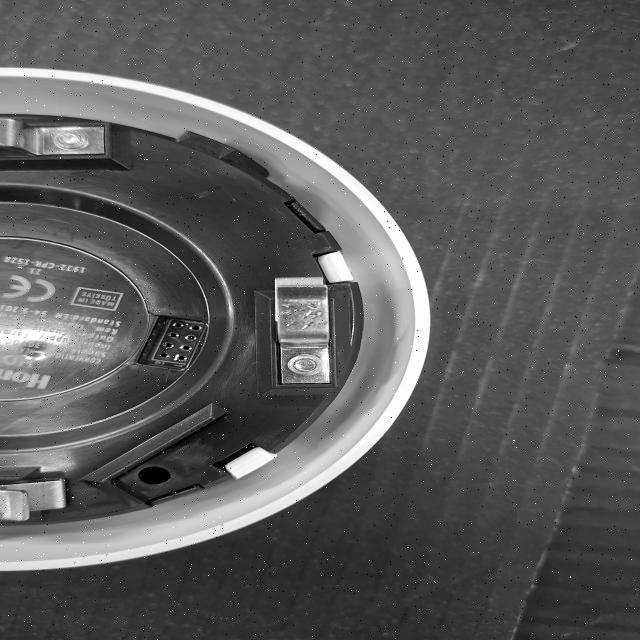yayli: (254, 272, 340, 392)
